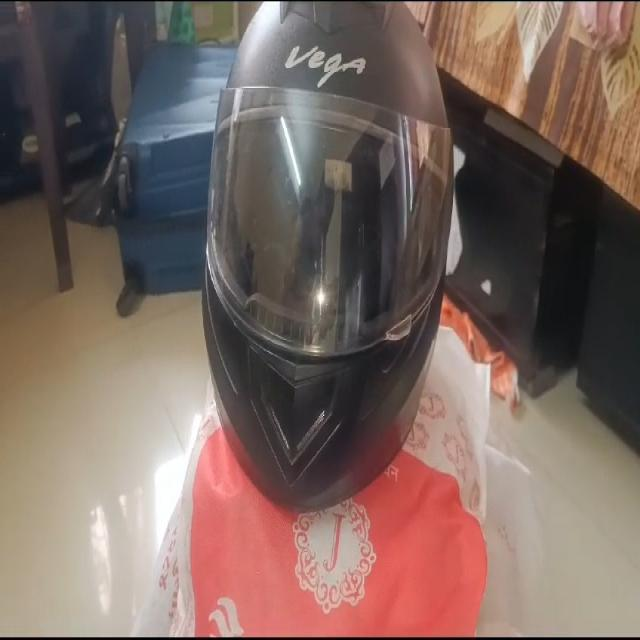Helmet: (202, 3, 456, 571)
